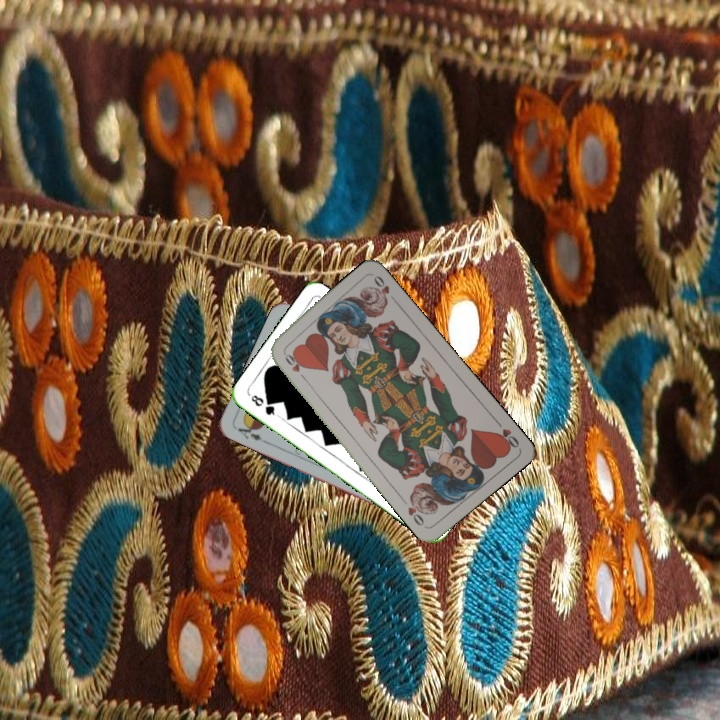EA: (234, 419, 270, 446)
G8: (247, 391, 281, 419)
HO: (279, 347, 309, 383), (492, 416, 522, 452)
